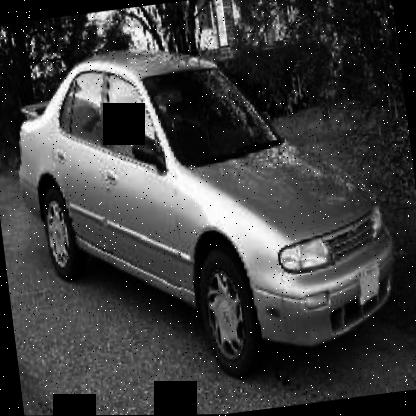not_emergency: (0, 15, 413, 408)
